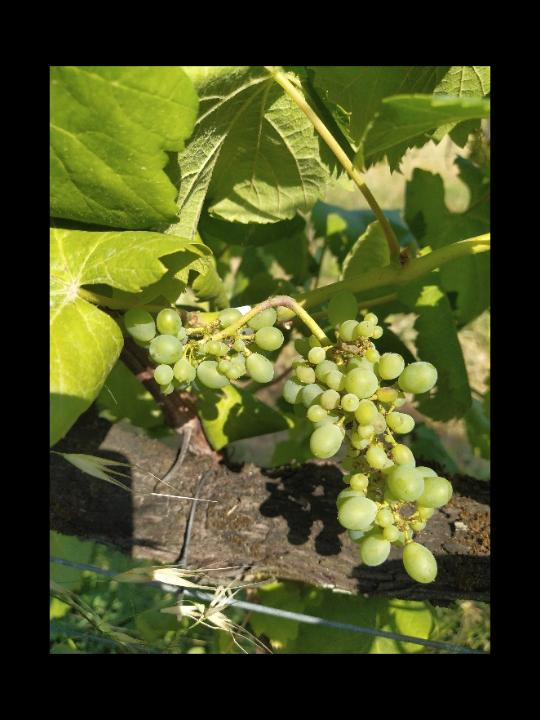grape: (120, 287, 462, 587)
